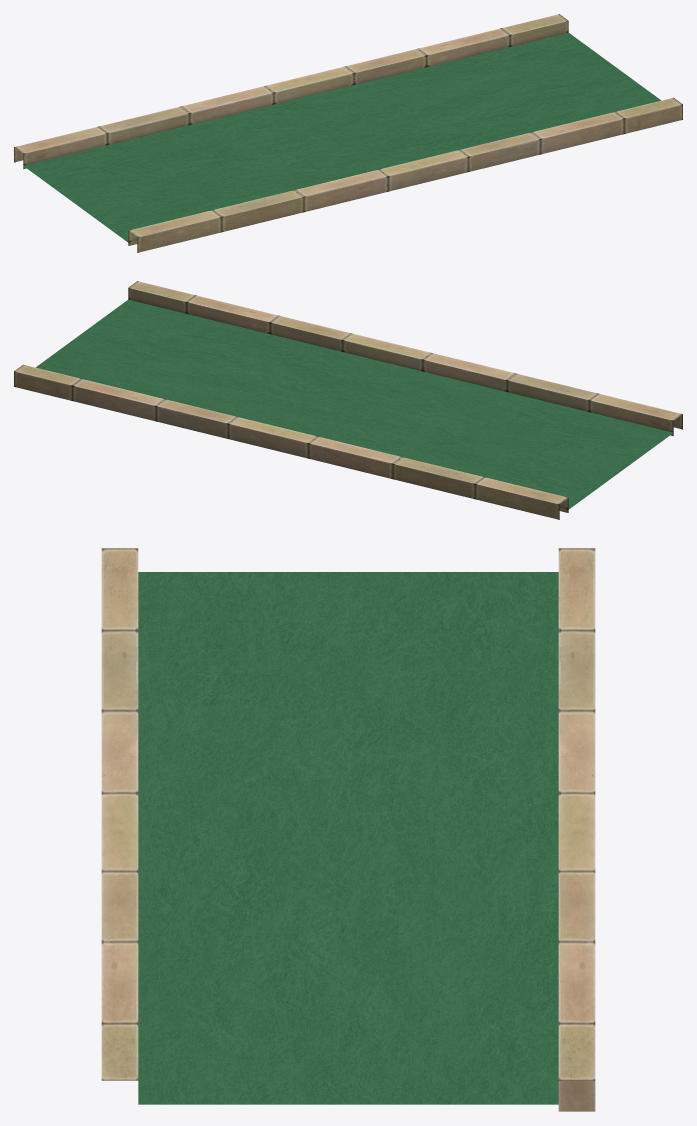
Rendered from CourseStraightLong_Col.fbx.
3 renders of one model, top to bottom at view 1: azimuth 30°, elevation 25°; view 2: azimuth 150°, elevation 25°; view 3: azimuth 270°, elevation 25°, orthographic. The views are drawn at different scales.
Visible parts, largest first — view 1: CourseStraightLong_Col; view 2: CourseStraightLong_Col; view 3: CourseStraightLong_Col.
Part boxes in pixels (x1=…): CourseStraightLong_Col: x1=14, y1=14, x2=682, y2=252; CourseStraightLong_Col: x1=14, y1=281, x2=682, y2=519; CourseStraightLong_Col: x1=101, y1=548, x2=595, y2=1111.
Size of the model in its own units: 470 by 32.5 by 1200.
